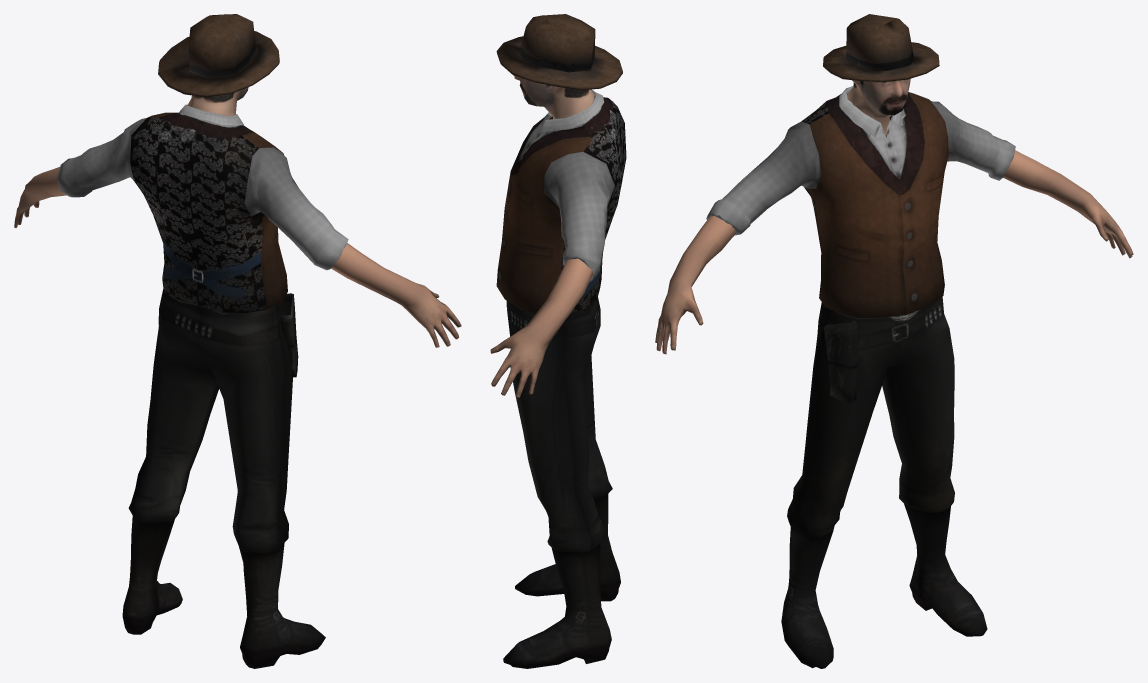
3 views of the same model, side by side, from view 1: azimuth 30°, elevation 25°; view 2: azimuth 150°, elevation 25°; view 3: azimuth 270°, elevation 25° (orthographic).
Visible parts, largest first — view 1: Baked_Mesh_2, Baked_Mesh_7, Baked_Mesh_6_, Baked_Mesh; view 2: Baked_Mesh_2, Baked_Mesh_7, Baked_Mesh_6_, Baked_Mesh; view 3: Baked_Mesh_2, Baked_Mesh_7, Baked_Mesh, Baked_Mesh_6_.
Part boxes in pixels (x1,y1,x2,y2): Baked_Mesh_2: [122, 289, 325, 668]; Baked_Mesh_7: [56, 104, 348, 314]; Baked_Mesh_6_: [158, 14, 279, 97]; Baked_Mesh: [14, 87, 461, 347]; Baked_Mesh_2: [503, 297, 620, 668]; Baked_Mesh_7: [496, 89, 626, 313]; Baked_Mesh_6_: [496, 14, 622, 90]; Baked_Mesh: [490, 76, 594, 397]; Baked_Mesh_2: [781, 296, 987, 668]; Baked_Mesh_7: [706, 86, 1015, 319]; Baked_Mesh: [655, 78, 1133, 354]; Baked_Mesh_6_: [823, 14, 939, 81].
Size of the model in its own units: 74.98 by 187 by 131.
Materials: 4 (4 with a texture image).
